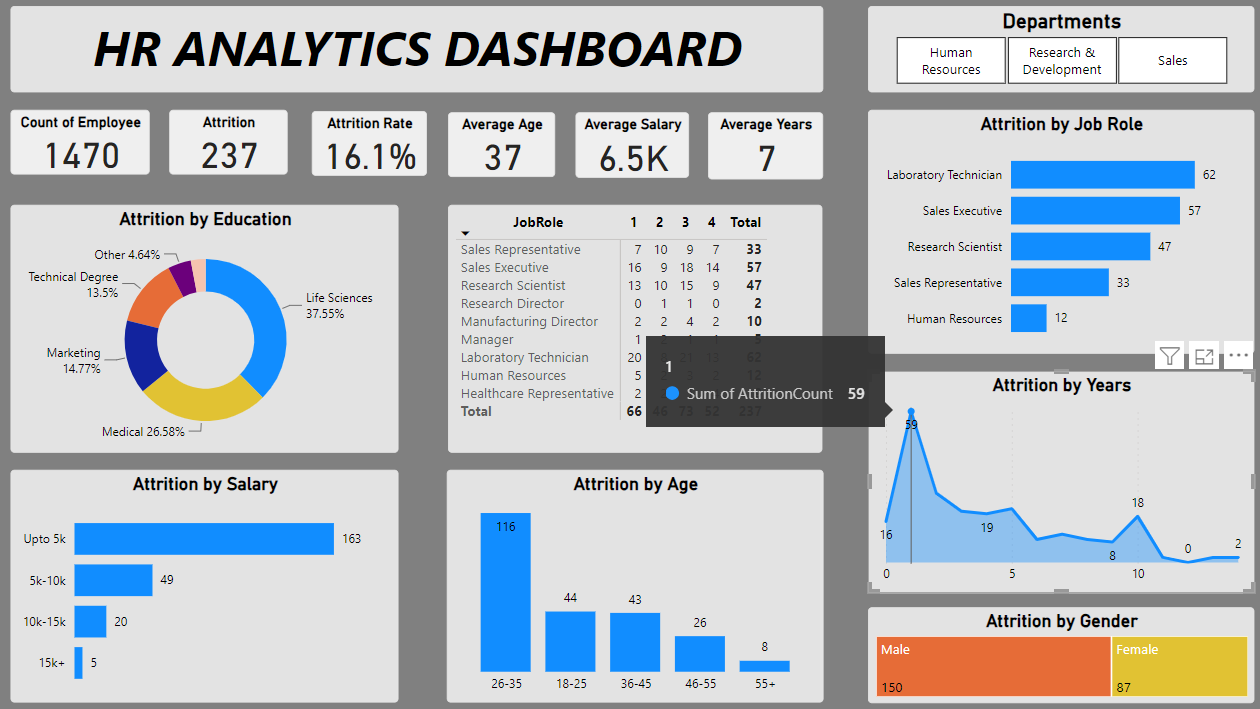

The page's visual inventory and layout, read from the dashboard file:
{"tool":"powerbi","page":{"name":"Page 1","canvas":[1280,720],"ordinal":0},"visuals":[{"type":"card","title":"Count of Employee","fields":{"Values":["CountNonNull(HR_Analytics.EmpID)"]},"box":[17,113.8,139.4,64.9],"z":0},{"type":"card","title":"Attrition","fields":{"Values":["Sum(HR_Analytics.AttritionCount)"]},"box":[176.6,113.8,118.1,64.9],"z":1000},{"type":"card","title":"Attrition Rate","fields":{"Values":["HR_Analytics.AttritionRate"]},"box":[319.1,114.9,114.9,64.9],"z":2000},{"type":"card","title":"Average Age ","fields":{"Values":["Avg(HR_Analytics.Age)"]},"box":[455.3,116,107.4,64.9],"z":3000},{"type":"card","title":"Average Salary","fields":{"Values":["Avg(HR_Analytics.MonthlyIncome)"]},"box":[583,116,113.8,66],"z":4000},{"type":"card","title":"Average Years ","fields":{"Values":["Avg(HR_Analytics.YearsAtCompany)"]},"box":[714.9,116,114.9,67],"z":5000},{"type":"donutChart","title":"Attrition by Education","fields":{"Category":["HR_Analytics.EducationField"],"Y":["Sum(HR_Analytics.AttritionCount)"]},"box":[17,208.5,388.3,247.9],"z":6000},{"type":"columnChart","title":"Attrition by Age","fields":{"Category":["HR_Analytics.AgeGroup"],"Y":["Sum(HR_Analytics.AttritionCount)"]},"box":[453.2,473.4,376.6,233],"z":7000},{"type":"pivotTable","fields":{"Rows":["HR_Analytics.JobRole"],"Columns":["HR_Analytics.JobSatisfaction"],"Values":["Sum(HR_Analytics.AttritionCount)"]},"box":[455.3,208.5,374.5,247.9],"z":8000},{"type":"barChart","title":"Attrition by Salary","fields":{"Category":["HR_Analytics.SalarySlab"],"Y":["Sum(HR_Analytics.AttritionCount)"]},"box":[17,473.4,388.3,233],"z":9000},{"type":"barChart","title":"Attrition by Job Role","fields":{"Category":["HR_Analytics.JobRole"],"Y":["Sum(HR_Analytics.AttritionCount)"]},"box":[875.5,113.8,386.2,243.6],"z":10000},{"type":"areaChart","title":"Attrition by Years","fields":{"Category":["HR_Analytics.YearsAtCompany"],"Y":["Sum(HR_Analytics.AttritionCount)"]},"box":[875,375,386.2,222.5],"z":11000},{"type":"treemap","title":"Attrition by Gender","fields":{"Group":["HR_Analytics.Gender"],"Values":["Sum(HR_Analytics.AttritionCount)"]},"box":[875.5,610.6,386.2,95.7],"z":12000},{"type":"slicer","title":"Departments","fields":{"Values":["HR_Analytics.Department"]},"box":[875.5,9.6,386.2,86.2],"z":13000},{"type":"textbox","box":[17,9.6,812.8,86.2],"z":14000}]}

Visuals, with their boxes in screenshot pixels (x1, y1, x2, y2), scaled from the page's 1280x720 canvas onto the 1260x709 screenshot:
"Count of Employee" card: {"left": 17, "top": 112, "right": 154, "bottom": 176}
"Attrition" card: {"left": 174, "top": 112, "right": 290, "bottom": 176}
"Attrition Rate" card: {"left": 314, "top": 113, "right": 427, "bottom": 177}
"Average Age " card: {"left": 448, "top": 114, "right": 554, "bottom": 178}
"Average Salary" card: {"left": 574, "top": 114, "right": 686, "bottom": 179}
"Average Years " card: {"left": 704, "top": 114, "right": 817, "bottom": 180}
"Attrition by Education" donutChart: {"left": 17, "top": 205, "right": 399, "bottom": 449}
"Attrition by Age" columnChart: {"left": 446, "top": 466, "right": 817, "bottom": 696}
pivotTable - HR_Analytics.JobRole x HR_Analytics.JobSatisfaction: {"left": 448, "top": 205, "right": 817, "bottom": 449}
"Attrition by Salary" barChart: {"left": 17, "top": 466, "right": 399, "bottom": 696}
"Attrition by Job Role" barChart: {"left": 862, "top": 112, "right": 1242, "bottom": 352}
"Attrition by Years" areaChart: {"left": 861, "top": 369, "right": 1241, "bottom": 588}
"Attrition by Gender" treemap: {"left": 862, "top": 601, "right": 1242, "bottom": 696}
"Departments" slicer: {"left": 862, "top": 9, "right": 1242, "bottom": 94}
textbox: {"left": 17, "top": 9, "right": 817, "bottom": 94}
